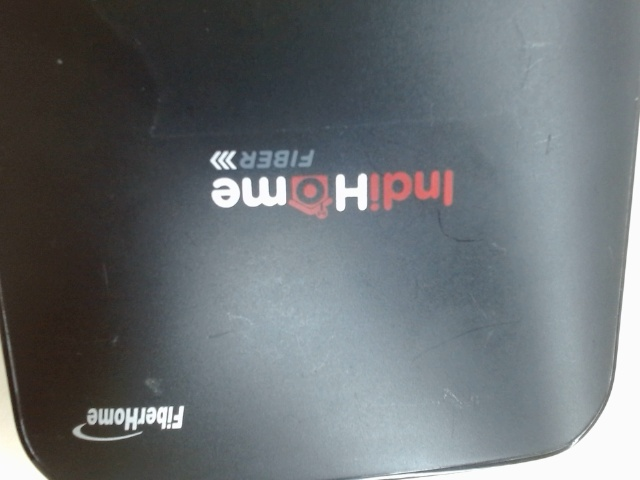AF_IndiHome: (196, 138, 466, 229)
